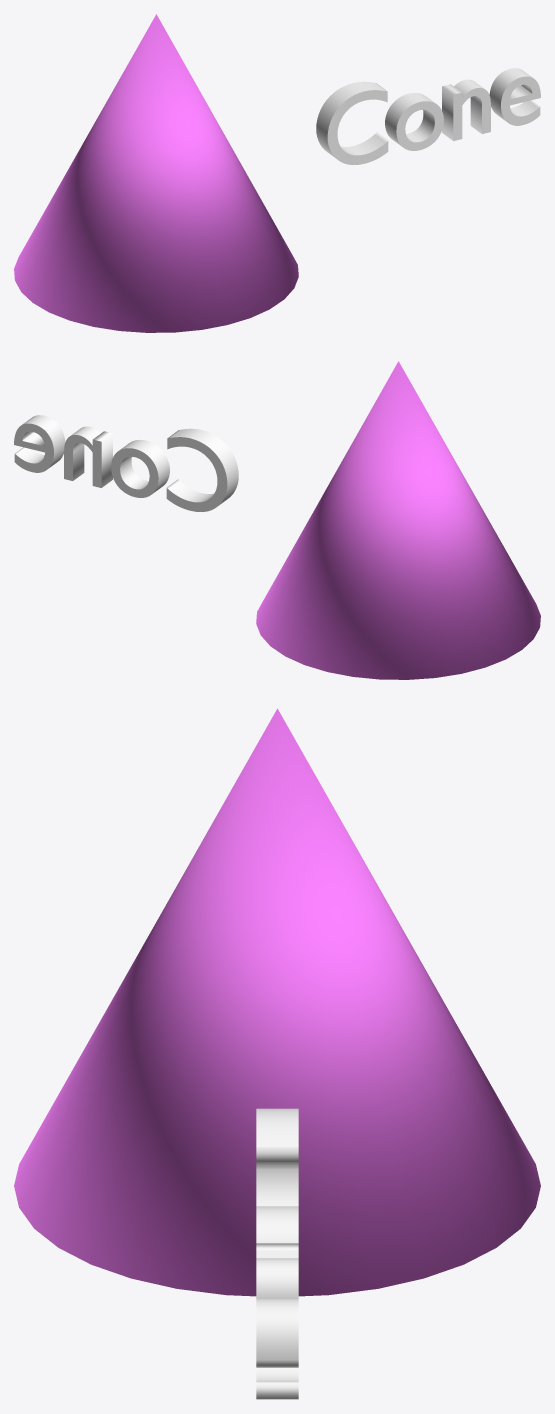
3 renders of one model, top to bottom at view 1: azimuth 30°, elevation 25°; view 2: azimuth 150°, elevation 25°; view 3: azimuth 270°, elevation 25°, orthographic. The views are drawn at different scales.
Visible parts, largest first — view 1: Model_4_Cone; view 2: Model_4_Cone; view 3: Model_4_Cone.
Boxes of the visible parts, box(x1,y1,x2,y2) form: Model_4_Cone: box(14, 14, 540, 332); Model_4_Cone: box(14, 361, 540, 679); Model_4_Cone: box(14, 708, 540, 1399).
Bounding box in the file's own units: 4.06 × 2 × 2.
